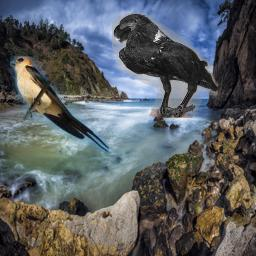Crow: (112, 13, 218, 118)
Swallow: (10, 56, 109, 152)
